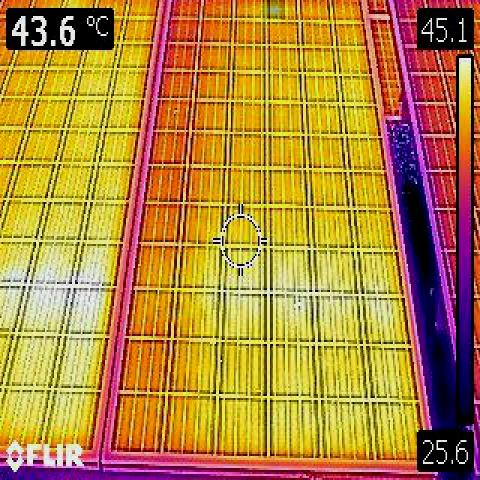fault: (266, 0, 285, 19)
